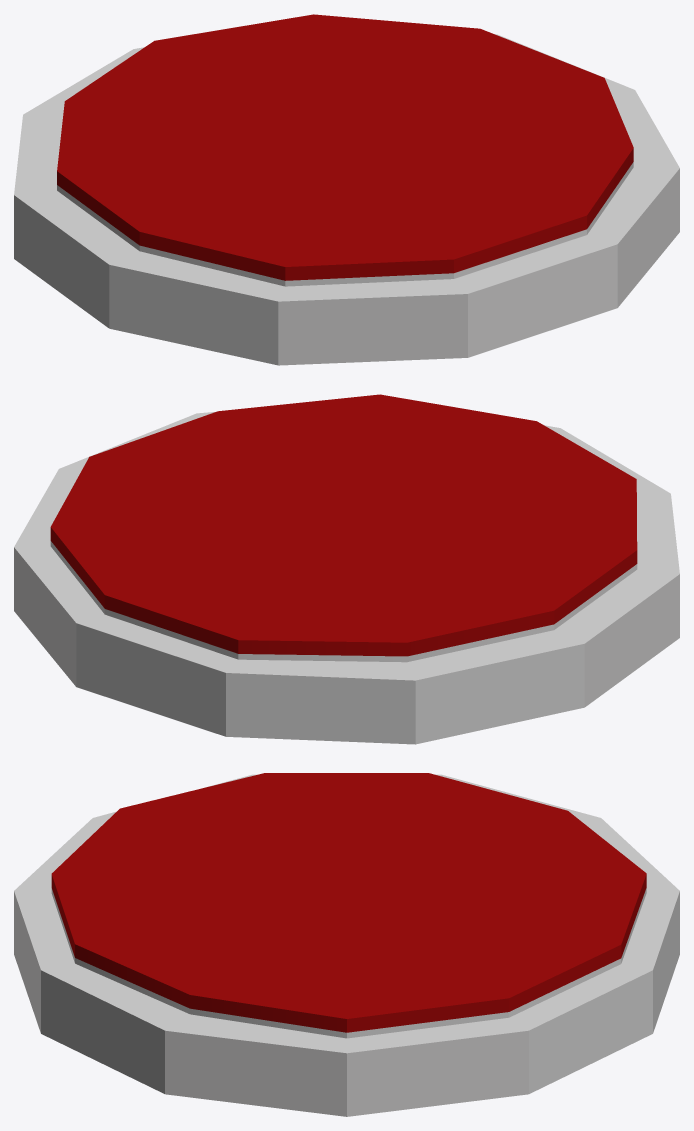
File: Button.fbx
3 views of the same model, one above another, from view 1: azimuth 30°, elevation 25°; view 2: azimuth 150°, elevation 25°; view 3: azimuth 270°, elevation 25° (orthographic).
Parts seen in each view (by area): view 1: pCylinder1; view 2: pCylinder1; view 3: pCylinder1.
Part boxes in pixels (x1,y1,x2,y2): pCylinder1: (14,14,679,365); pCylinder1: (14,394,679,744); pCylinder1: (14,773,679,1116).
Bounding box in the file's own units: 4.73 × 0.6577 × 4.78.
